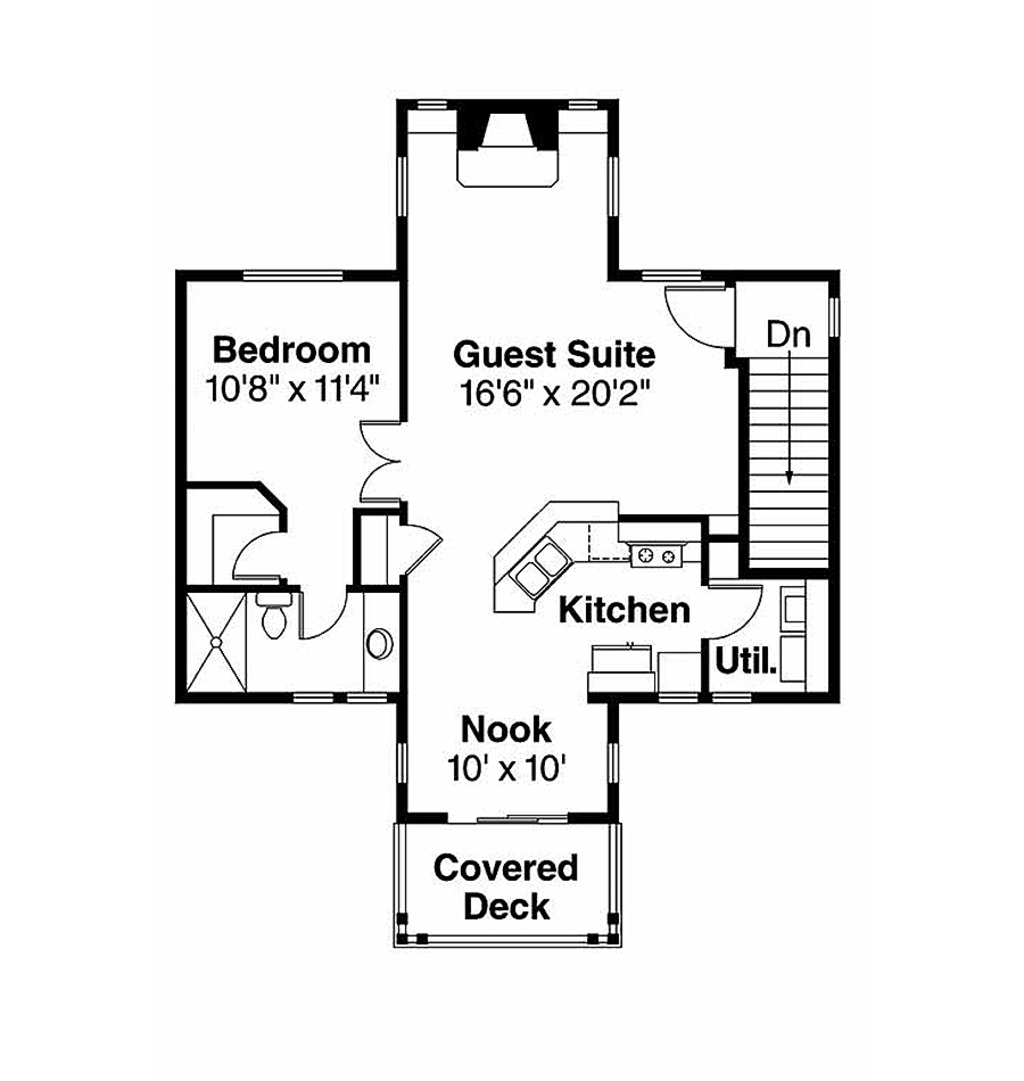door: (662, 276, 749, 363), (349, 416, 409, 506), (697, 581, 765, 648), (389, 520, 449, 585), (228, 530, 294, 585), (299, 595, 351, 653)
large_sink: (241, 590, 286, 656)
small_sink: (356, 595, 411, 700)
stairs: (734, 353, 845, 571)
twin_sink: (474, 506, 587, 636)
window: (228, 261, 353, 288), (389, 155, 421, 221), (655, 688, 755, 708), (597, 153, 625, 221), (600, 736, 635, 786), (393, 741, 416, 790), (830, 293, 849, 345), (645, 265, 699, 283), (565, 91, 599, 118), (408, 96, 448, 113)
